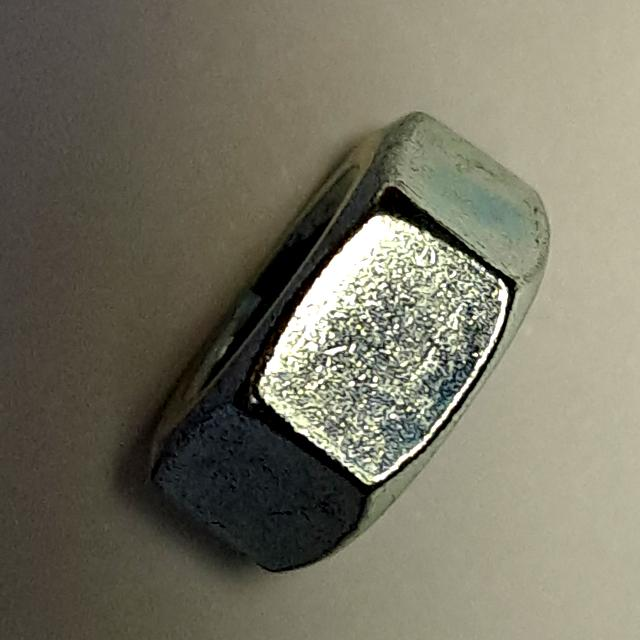Side_Excellent: (121, 75, 561, 594)
